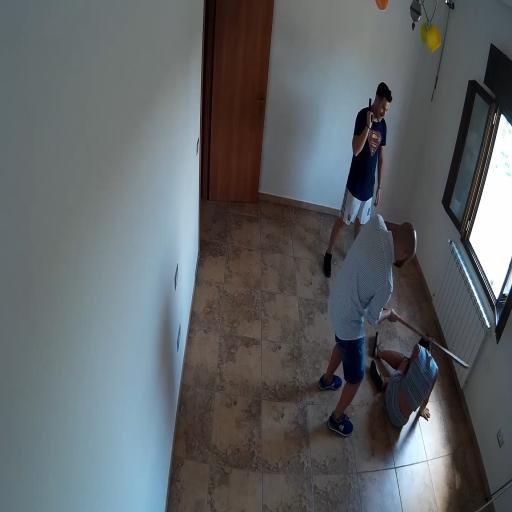violencia: (306, 203, 478, 476), (318, 76, 404, 272)
